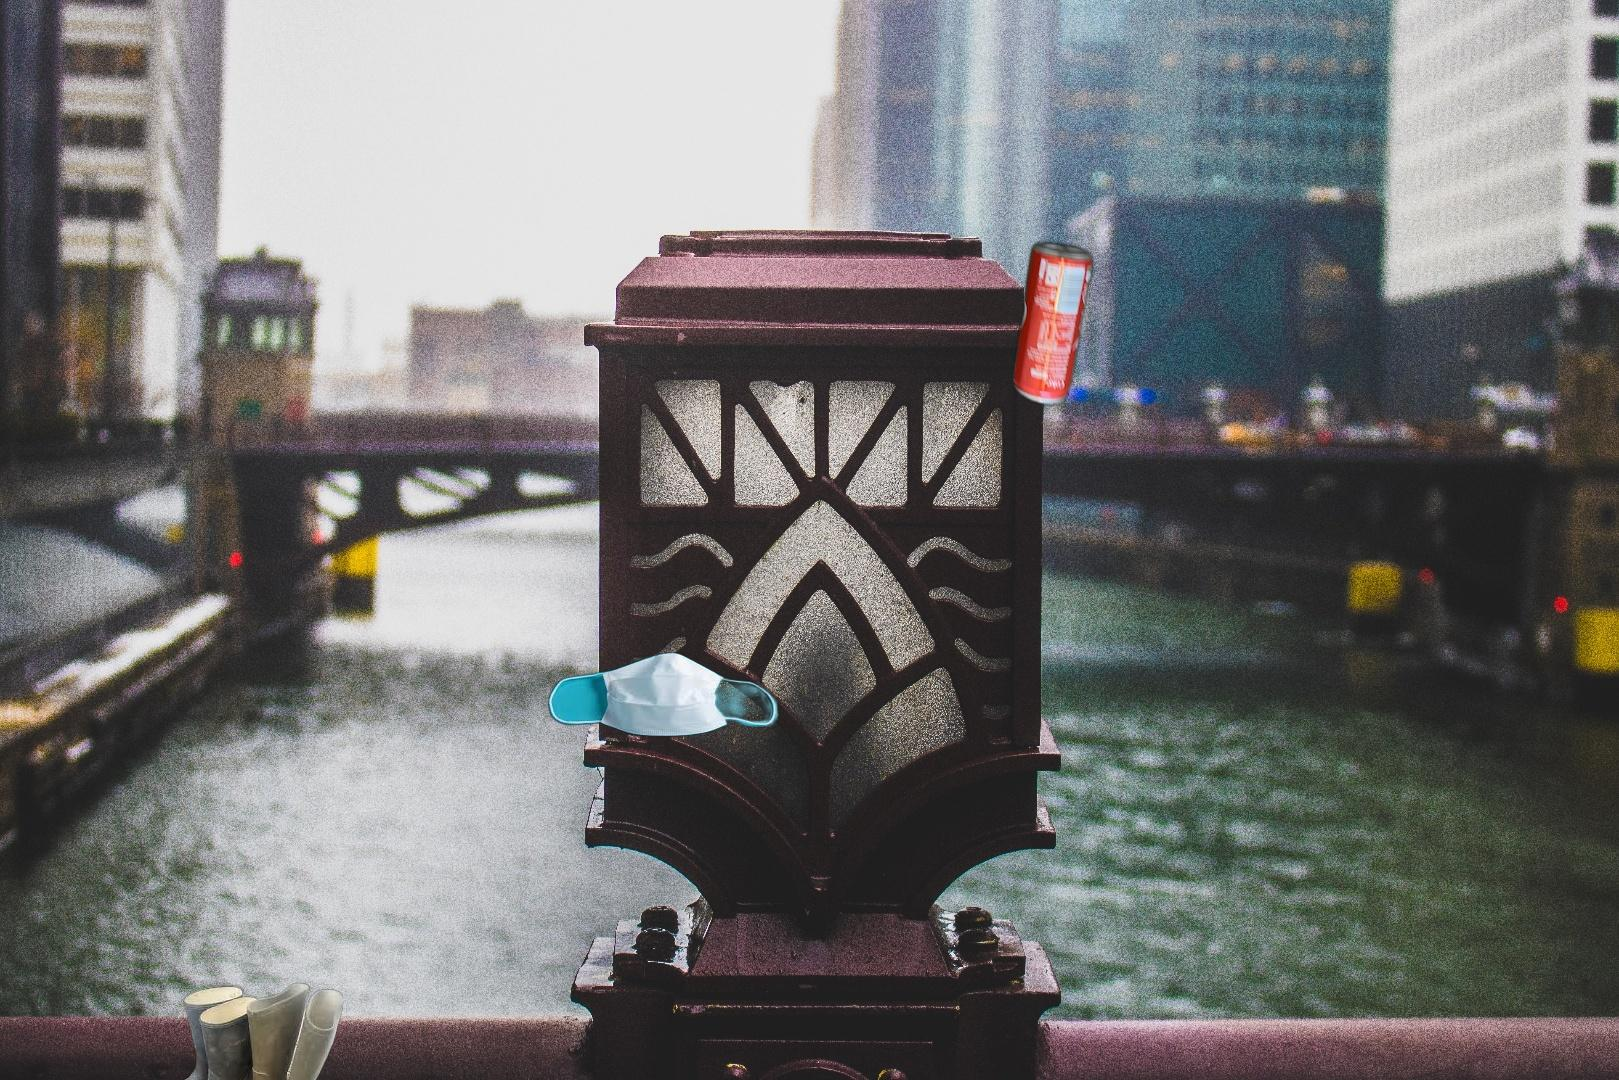metal-cans: (1008, 235, 1098, 412)
shoes: (149, 982, 344, 1080)
trash: (547, 650, 781, 739)
